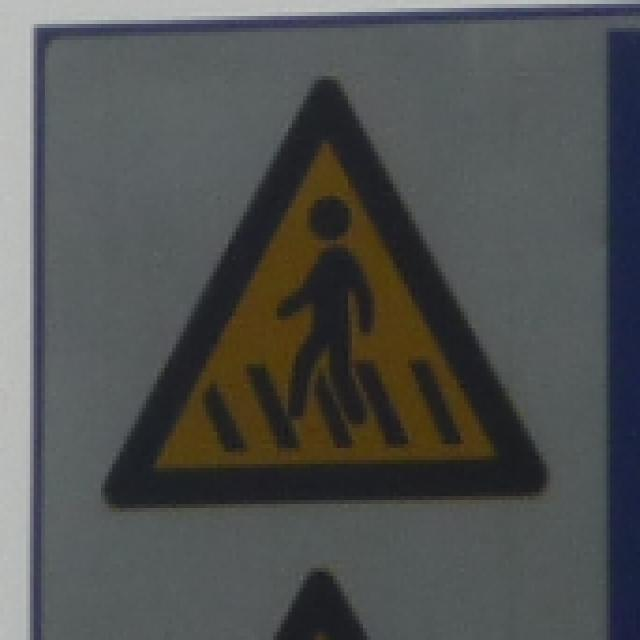Crossing: (101, 76, 556, 512)
